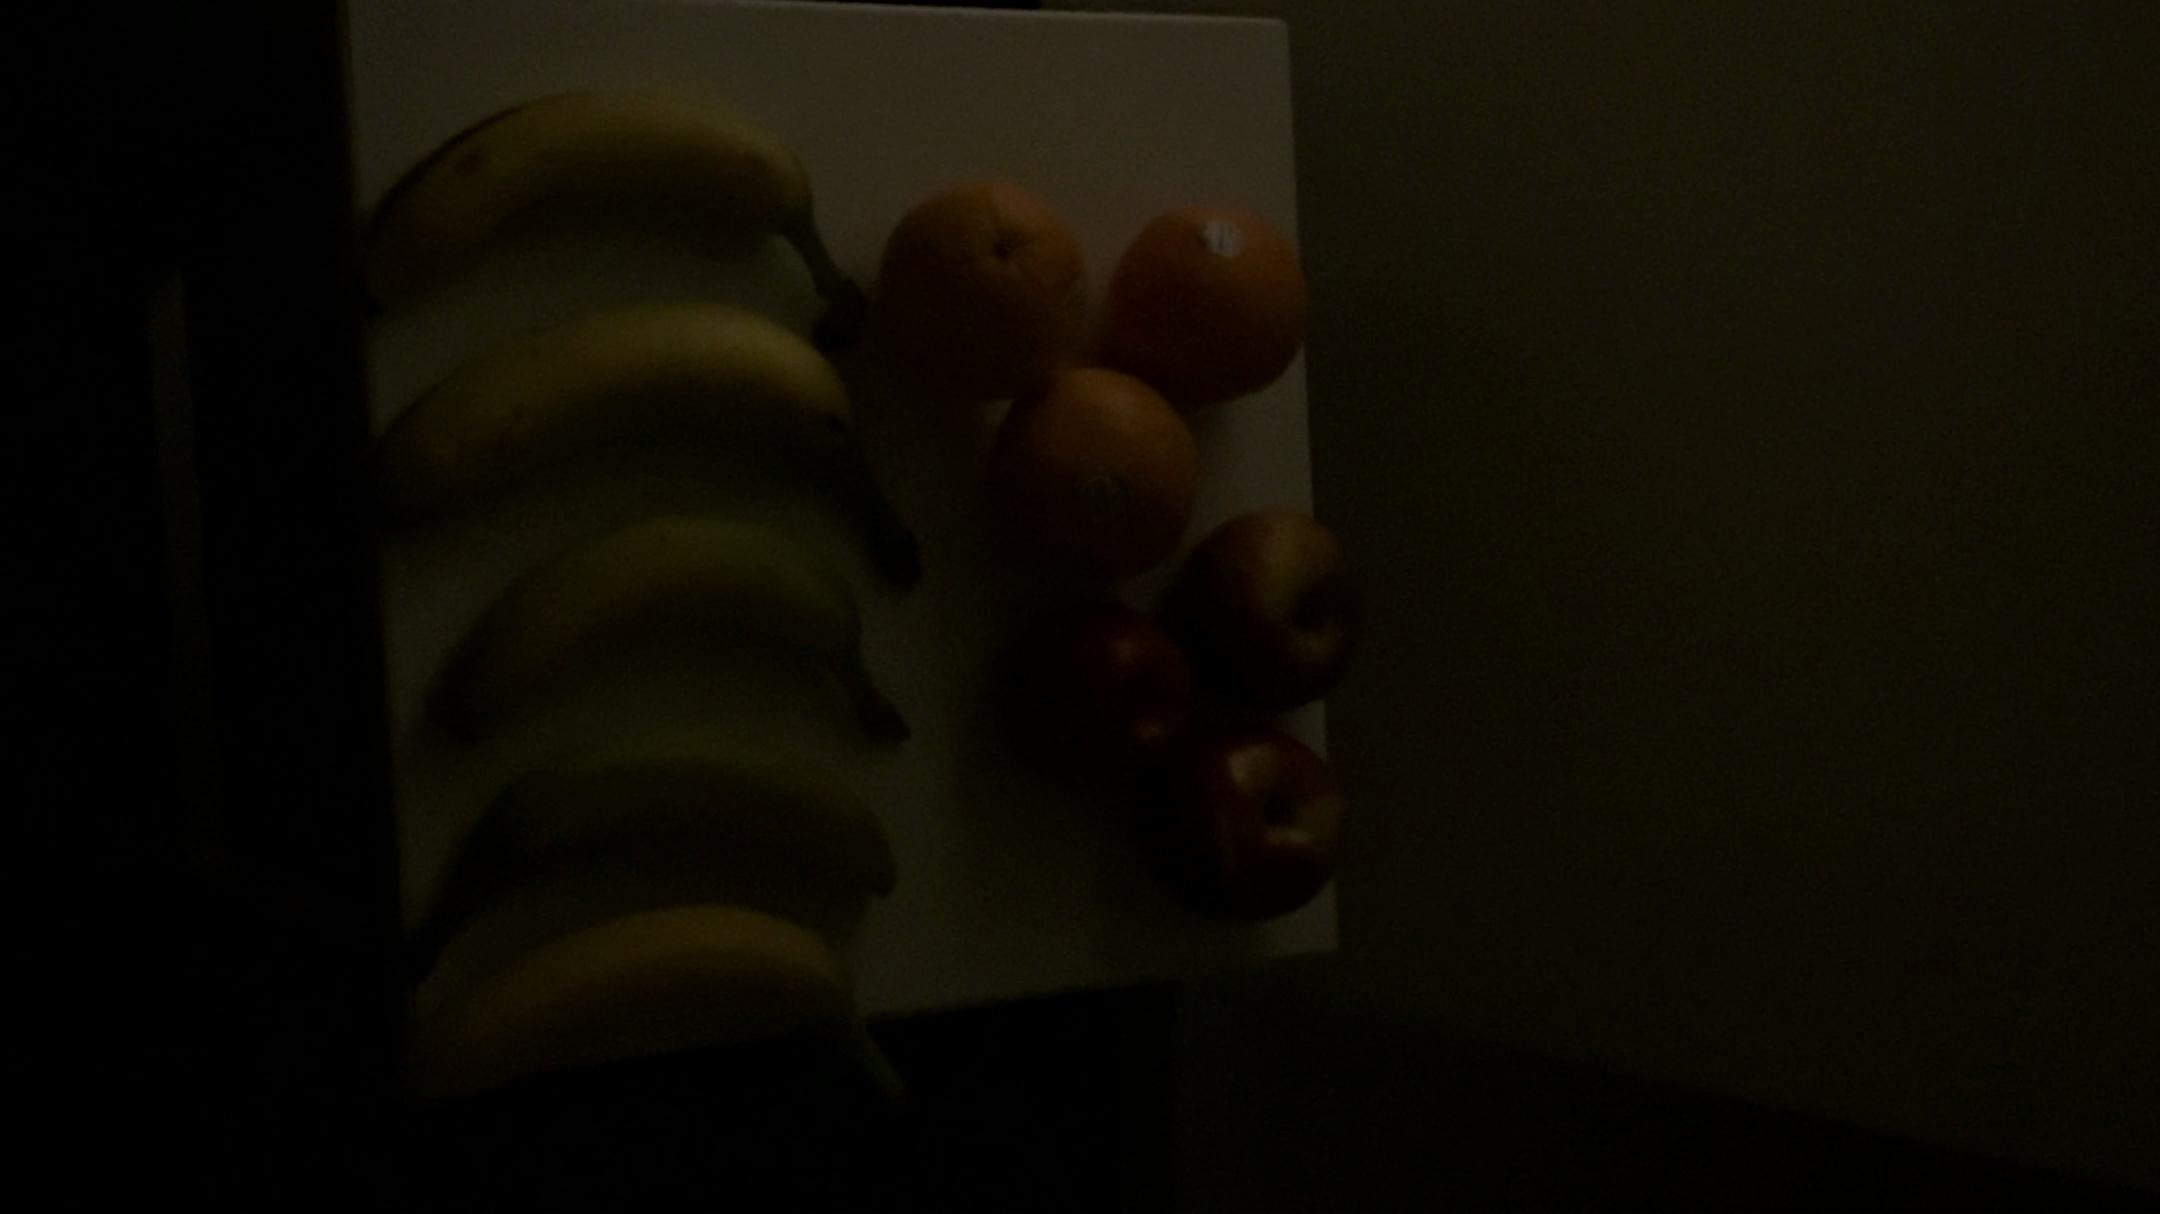apple: (1169, 718, 1356, 932), (1175, 497, 1362, 698), (1024, 594, 1205, 785)
banana: (360, 298, 918, 548), (349, 93, 875, 328), (377, 539, 926, 763), (377, 745, 921, 925), (451, 908, 902, 1074)
orange: (883, 169, 1107, 390), (1122, 177, 1314, 399), (998, 371, 1212, 570)
